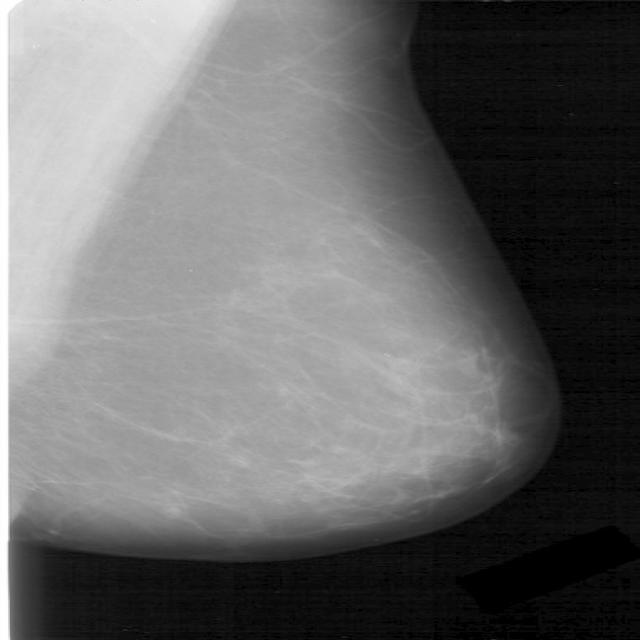tumour: (159, 504, 181, 520)
